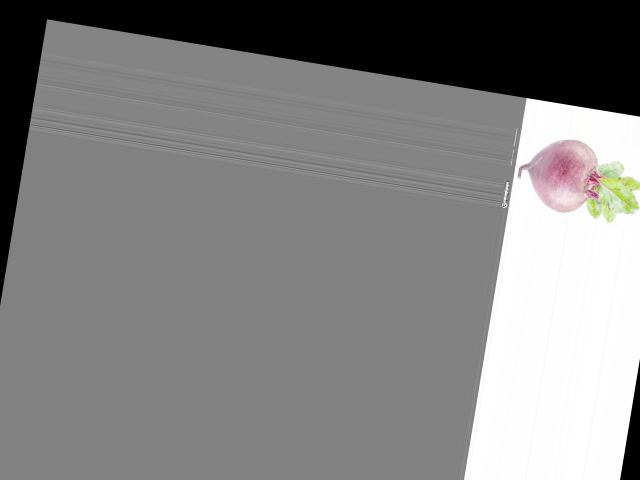beet: (513, 131, 640, 227)
